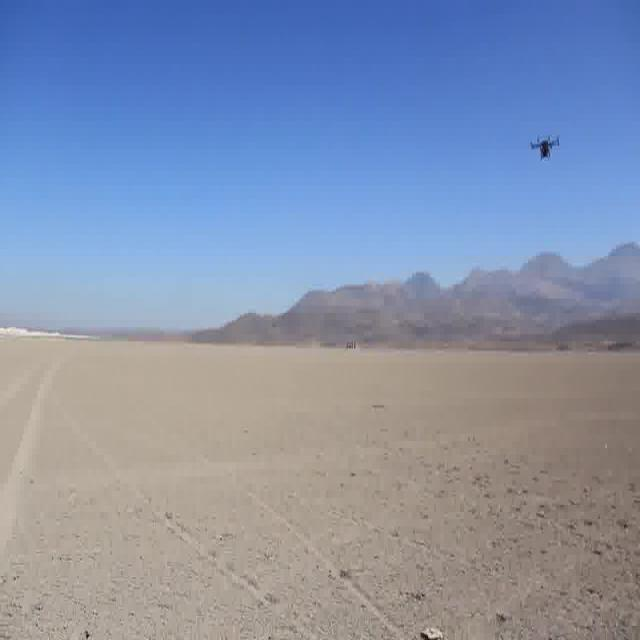drones: (522, 122, 565, 170)
